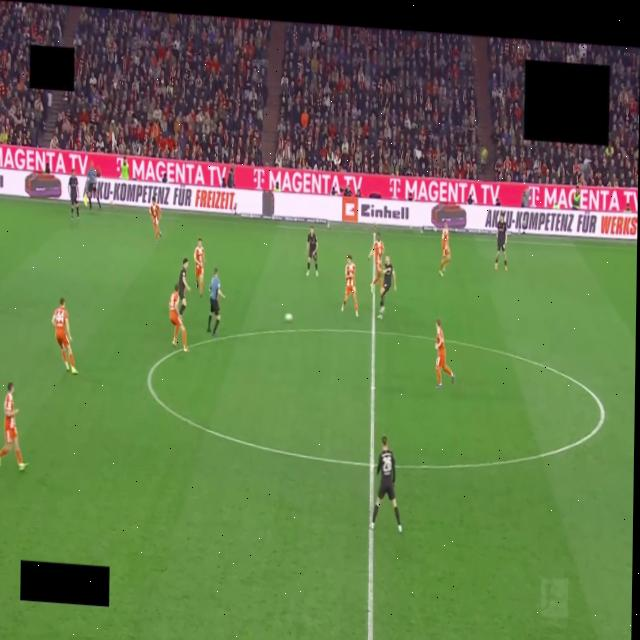ball: (285, 314, 293, 322)
player: (371, 437, 402, 532), (0, 383, 27, 471), (52, 298, 78, 374), (435, 320, 454, 388), (378, 255, 396, 319), (170, 285, 187, 351), (342, 255, 358, 317), (369, 225, 384, 291), (178, 258, 190, 315), (495, 213, 507, 270), (439, 223, 451, 276), (194, 238, 204, 296), (307, 227, 318, 277), (68, 170, 79, 220), (150, 197, 161, 243)
referee: (207, 268, 224, 335)
